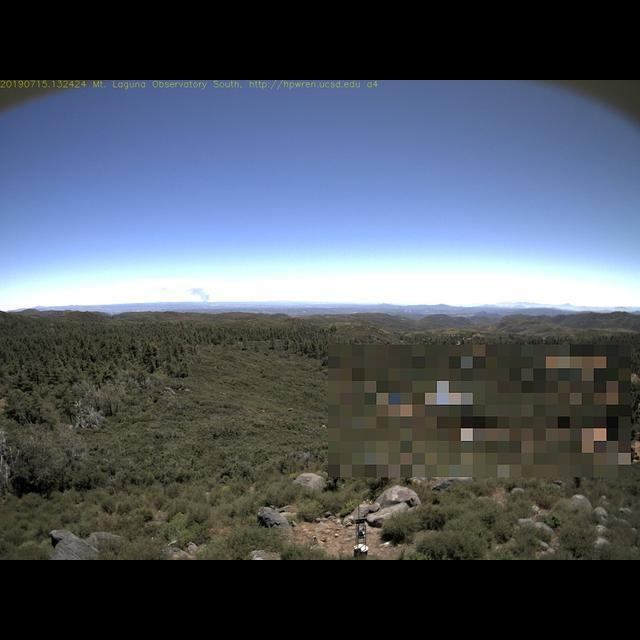Smoke: (185, 284, 212, 311)
